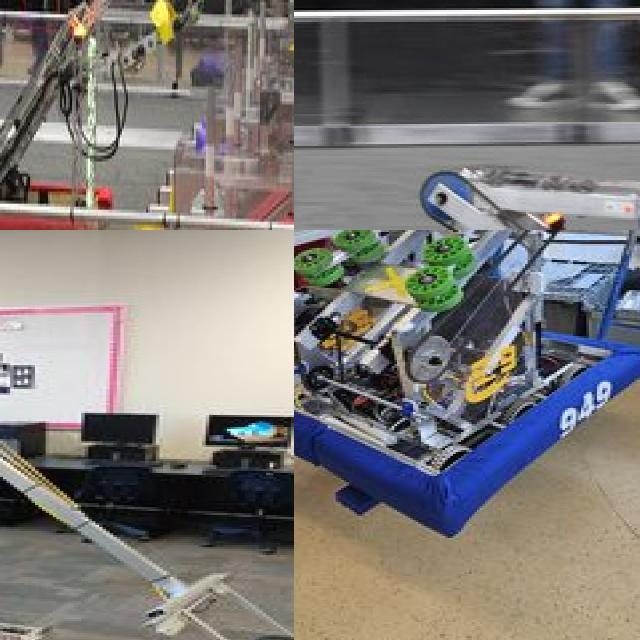FRC-Robots: (294, 230, 640, 530), (0, 297, 294, 640), (335, 89, 640, 230), (0, 0, 126, 230)
